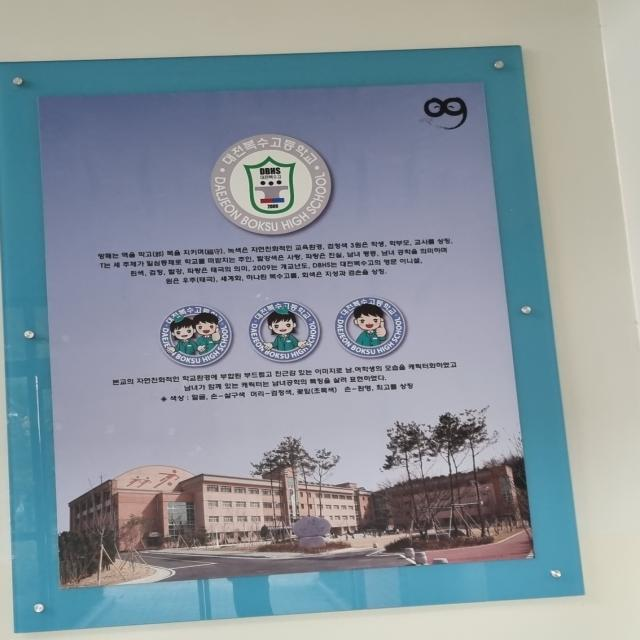logo: (196, 125, 346, 242)
